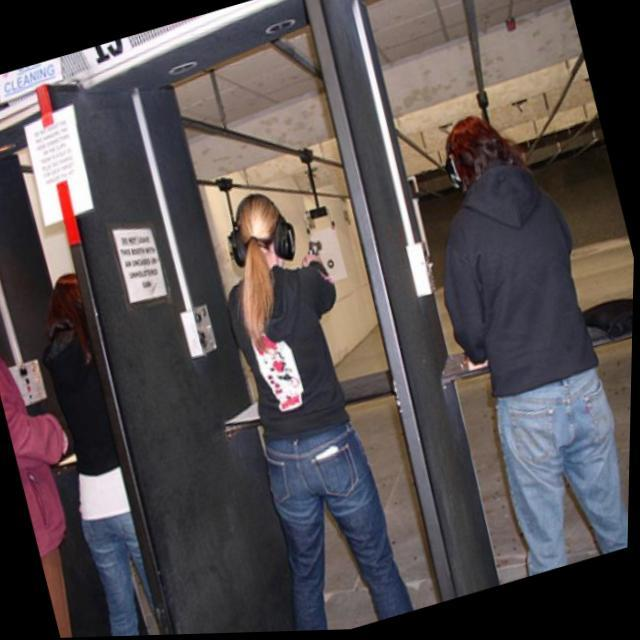weapon: (306, 236, 331, 263)
